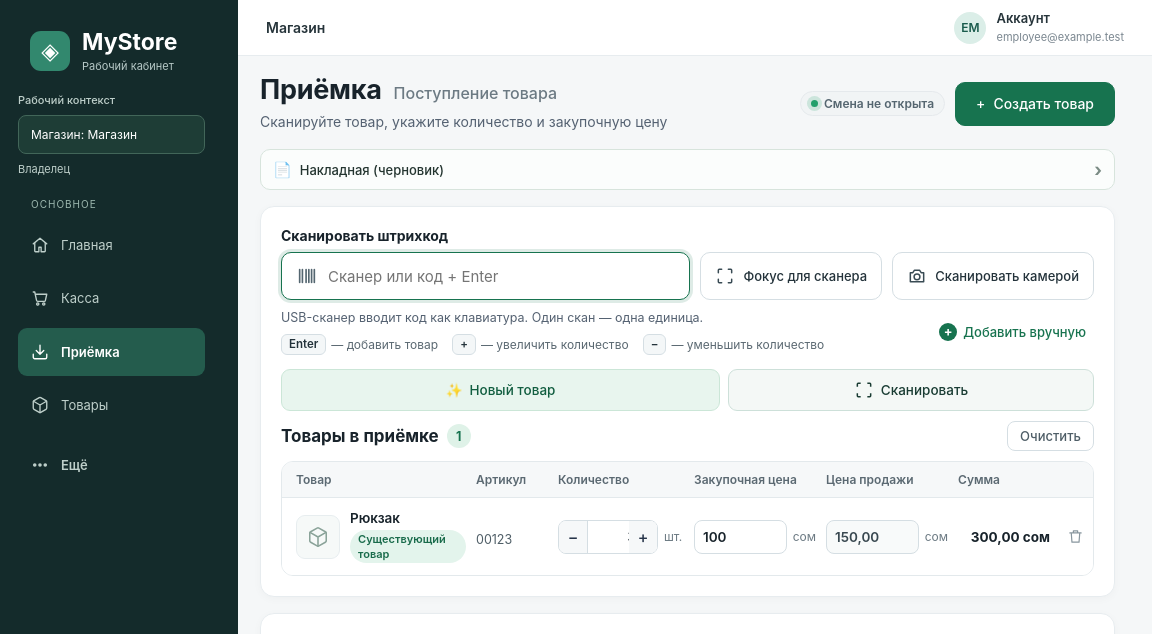
Test: warns on expensive stock and still posts receiving
Replace the text in the field named "Закупочная цена Рюкзак, сом" with "200" at (740, 537), box [694, 520, 787, 554]
(page scrolled)
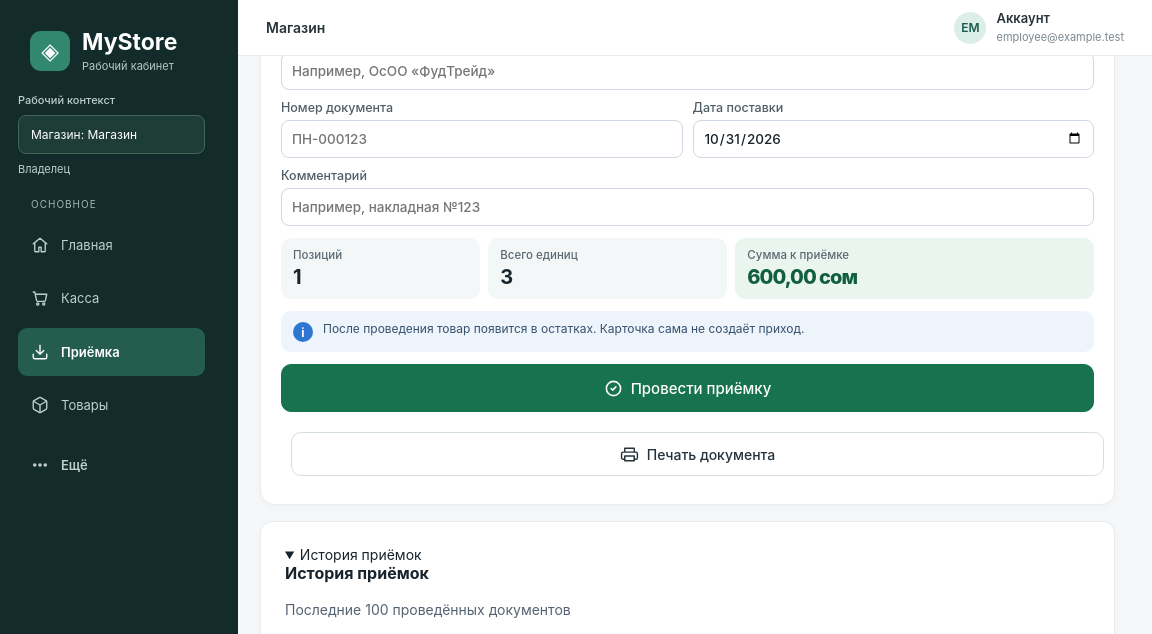
Click the button "Провести приёмку" at (688, 388), box [281, 364, 1094, 412]
(page scrolled)
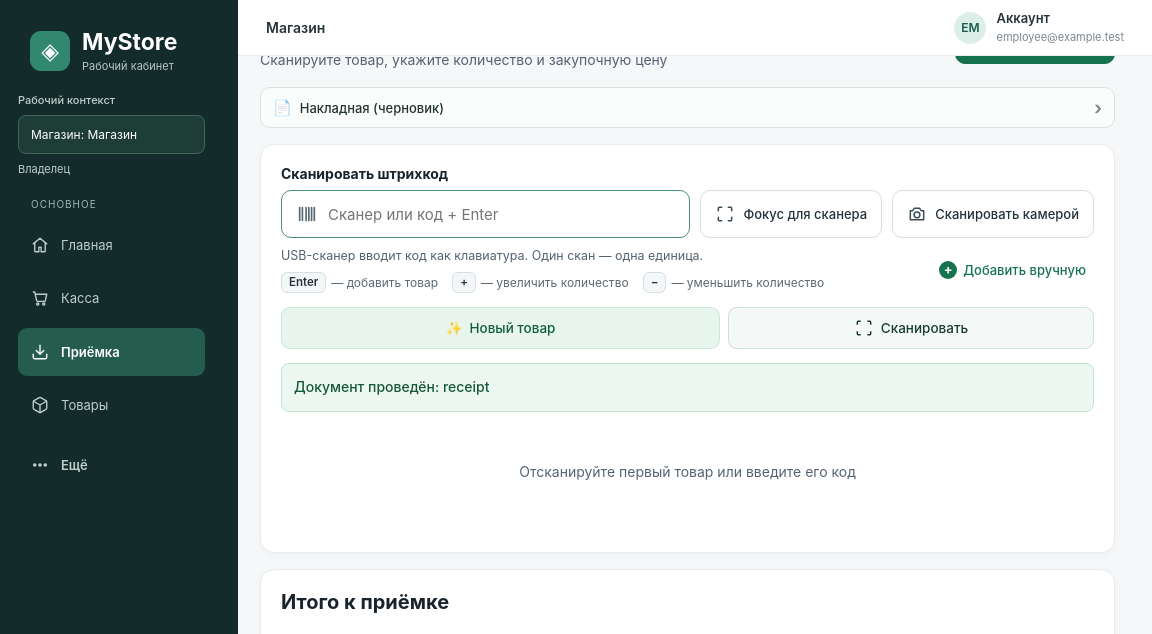
Expected: the text "Документ проведён: receipt" is shown, [281, 363, 1094, 412]
